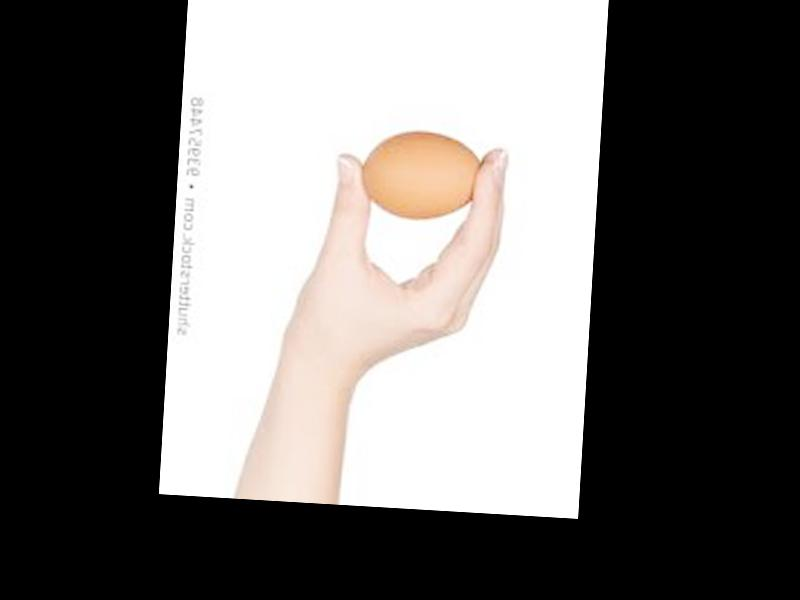Eggs: (358, 128, 489, 221)
